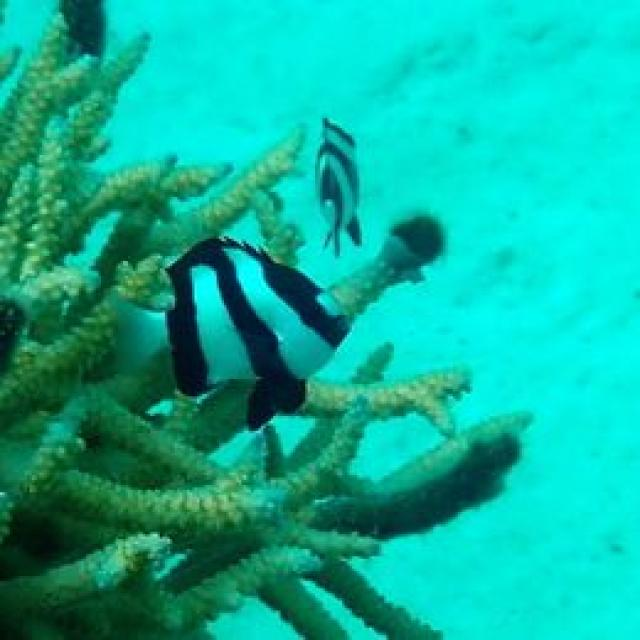ThreeStripedDamselfish: (116, 239, 354, 433)
